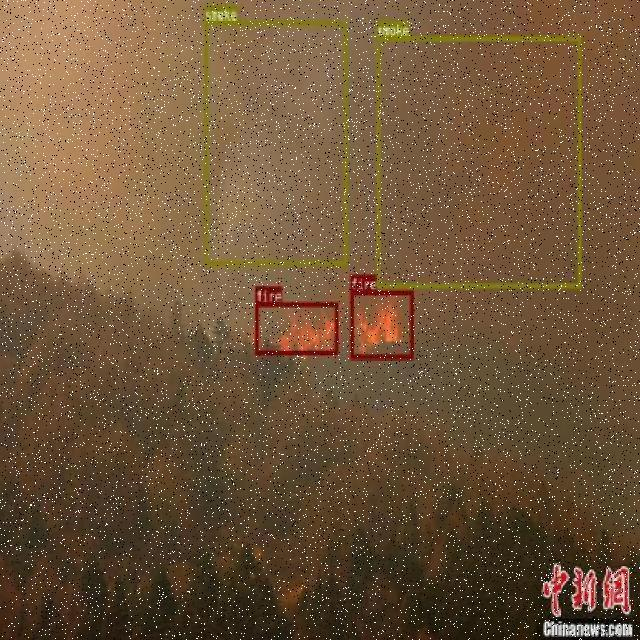Smoke: (379, 0, 578, 223), (240, 0, 311, 193)
